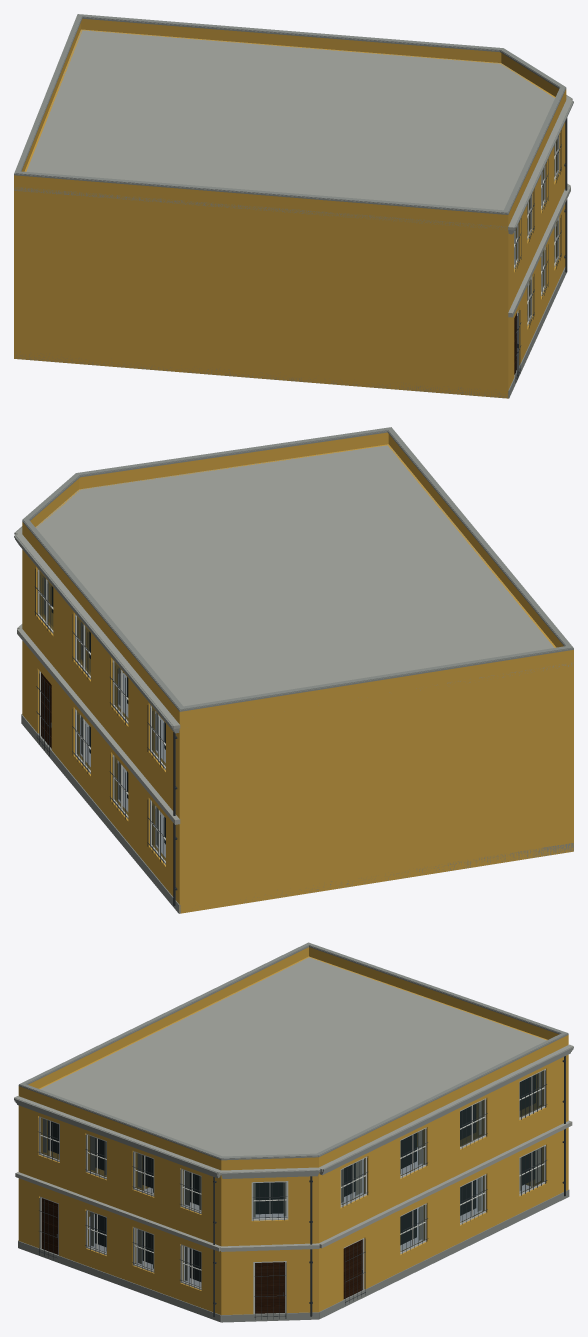
File: building.glb
The picture shows the model from 3 angles, top to bottom: view 1: azimuth 30°, elevation 25°; view 2: azimuth 150°, elevation 25°; view 3: azimuth 270°, elevation 25°; orthographic projection. The views are drawn at different scales.
Visible parts, largest first — view 1: main:0/edge0/z0/main:0/edge0/z0/wall_0_0, roof/main:0/roof_slab#0001, roof/main:0/parapet#0001, main:0/edge1/z0/main:0/edge1/z0/wall_0_0, roof/main:0/parapet_cap#0002, roof/main:0/parapet_cap#0001, main:0/edge1/z0/floor_slab#0001, main:0/edge1/z0/top_cornice#0001, main:0/edge1/z0/plinth#0001, main:0/edge3/z0/main:0/edge3/z0/wall_0_0/core0, main:0/edge0/z0/plinth#0001; view 2: roof/main:0/roof_slab#0001, main:0/edge4/z0/main:0/edge4/z0/wall_0_0/core0, main:0/edge3/z0/main:0/edge3/z0/wall_0_0/core0, roof/main:0/parapet#0001, roof/main:0/parapet_cap#0002, roof/main:0/parapet_cap#0001, main:0/edge3/z0/floor_slab#0001, main:0/edge3/z0/plinth#0001, main:0/edge3/z0/top_cornice#0001, main:0/edge3/z0/main:0/edge3/z0/wall_0_0/clip1, main:0/edge3/z0/proj_cornice_00/cornice_drip#0001, main:0/edge4/z0/plinth#0001; view 3: roof/main:0/roof_slab#0001, main:0/edge3/z0/main:0/edge3/z0/wall_0_0/core0, main:0/edge1/z0/main:0/edge1/z0/wall_0_0, roof/main:0/parapet#0001, main:0/edge2/z0/main:0/edge2/z0/wall_0_0, roof/main:0/parapet_cap#0002, roof/main:0/parapet_cap#0001, main:0/edge3/z0/plinth#0001, main:0/edge3/z0/floor_slab#0001, main:0/edge1/z0/plinth#0001, main:0/edge1/z0/floor_slab#0001, main:0/edge2/z0/opening_u1.09_v3.95/glazing#0001 (+27 smaller).
Part boxes in pixels (left/top/right/bottom): main:0/edge0/z0/main:0/edge0/z0/wall_0_0: left=14, top=186, right=508, bottom=398; roof/main:0/roof_slab#0001: left=14, top=29, right=554, bottom=229; roof/main:0/parapet#0001: left=14, top=18, right=566, bottom=226; main:0/edge1/z0/main:0/edge1/z0/wall_0_0: left=508, top=122, right=565, bottom=389; roof/main:0/parapet_cap#0002: left=14, top=14, right=565, bottom=213; roof/main:0/parapet_cap#0001: left=14, top=15, right=566, bottom=214; main:0/edge1/z0/floor_slab#0001: left=508, top=186, right=570, bottom=317; main:0/edge1/z0/top_cornice#0001: left=508, top=99, right=572, bottom=230; main:0/edge1/z0/plinth#0001: left=508, top=267, right=566, bottom=398; main:0/edge3/z0/main:0/edge3/z0/wall_0_0/core0: left=81, top=29, right=500, bottom=63; main:0/edge0/z0/plinth#0001: left=16, top=354, right=507, bottom=398; roof/main:0/roof_slab#0001: left=35, top=445, right=571, bottom=706; main:0/edge4/z0/main:0/edge4/z0/wall_0_0/core0: left=180, top=662, right=573, bottom=912; main:0/edge3/z0/main:0/edge3/z0/wall_0_0/core0: left=22, top=549, right=177, bottom=901; roof/main:0/parapet#0001: left=22, top=432, right=573, bottom=724; roof/main:0/parapet_cap#0002: left=22, top=427, right=573, bottom=709; roof/main:0/parapet_cap#0001: left=22, top=430, right=573, bottom=711; main:0/edge3/z0/floor_slab#0001: left=17, top=628, right=180, bottom=824; main:0/edge3/z0/plinth#0001: left=21, top=714, right=180, bottom=913; main:0/edge3/z0/top_cornice#0001: left=15, top=533, right=180, bottom=728; main:0/edge3/z0/main:0/edge3/z0/wall_0_0/clip1: left=179, top=723, right=186, bottom=913; main:0/edge3/z0/proj_cornice_00/cornice_drip#0001: left=14, top=535, right=173, bottom=727; main:0/edge4/z0/plinth#0001: left=233, top=843, right=573, bottom=904; roof/main:0/roof_slab#0001: left=40, top=957, right=546, bottom=1156; main:0/edge3/z0/main:0/edge3/z0/wall_0_0/core0: left=319, top=1057, right=563, bottom=1311; main:0/edge1/z0/main:0/edge1/z0/wall_0_0: left=18, top=1105, right=221, bottom=1314; roof/main:0/parapet#0001: left=18, top=947, right=568, bottom=1170; main:0/edge2/z0/main:0/edge2/z0/wall_0_0: left=221, top=1174, right=318, bottom=1314; roof/main:0/parapet_cap#0002: left=19, top=942, right=567, bottom=1158; roof/main:0/parapet_cap#0001: left=18, top=945, right=568, bottom=1160; main:0/edge3/z0/plinth#0001: left=319, top=1189, right=569, bottom=1319; main:0/edge3/z0/floor_slab#0001: left=319, top=1120, right=572, bottom=1248; main:0/edge1/z0/plinth#0001: left=18, top=1241, right=221, bottom=1322; main:0/edge1/z0/floor_slab#0001: left=15, top=1172, right=220, bottom=1251; main:0/edge2/z0/opening_u1.09_v3.95/glazing#0001: left=253, top=1182, right=286, bottom=1218.
Size of the model in its own units: 18.59 by 6.47 by 20.06.
9 materials, 1 textured.
